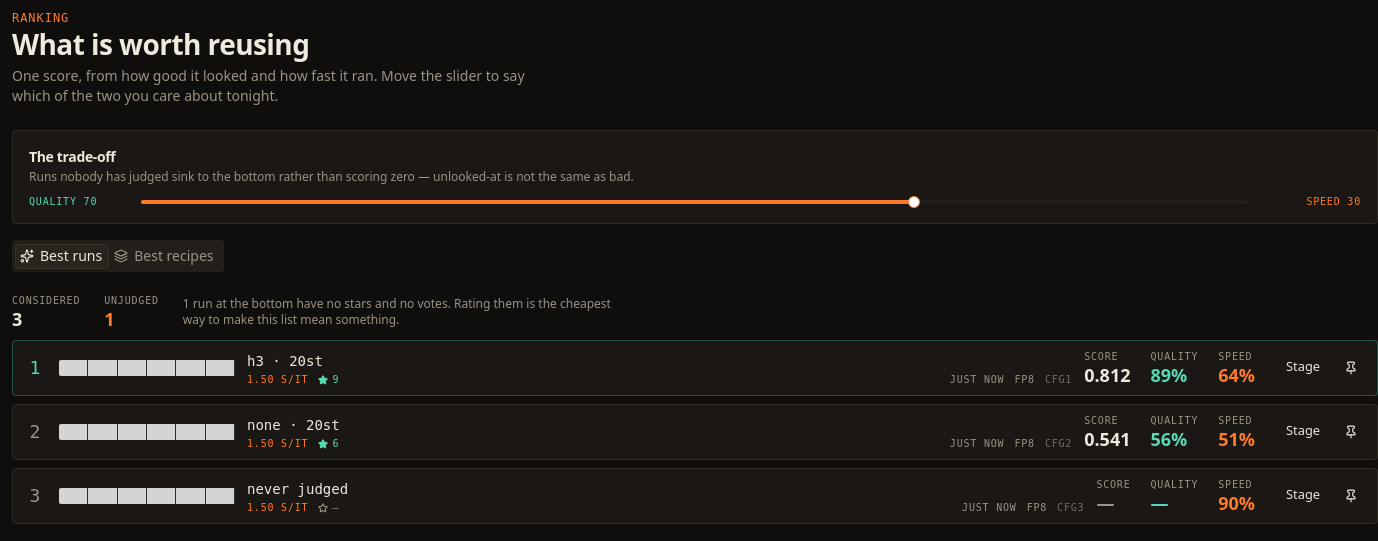
it: the leaderboard › groups replicates so one lucky run is not mistaken for a finding
The image size is (1378, 541).
Click the tab "Best recipes" at [165, 256], box [109,244,220,268]
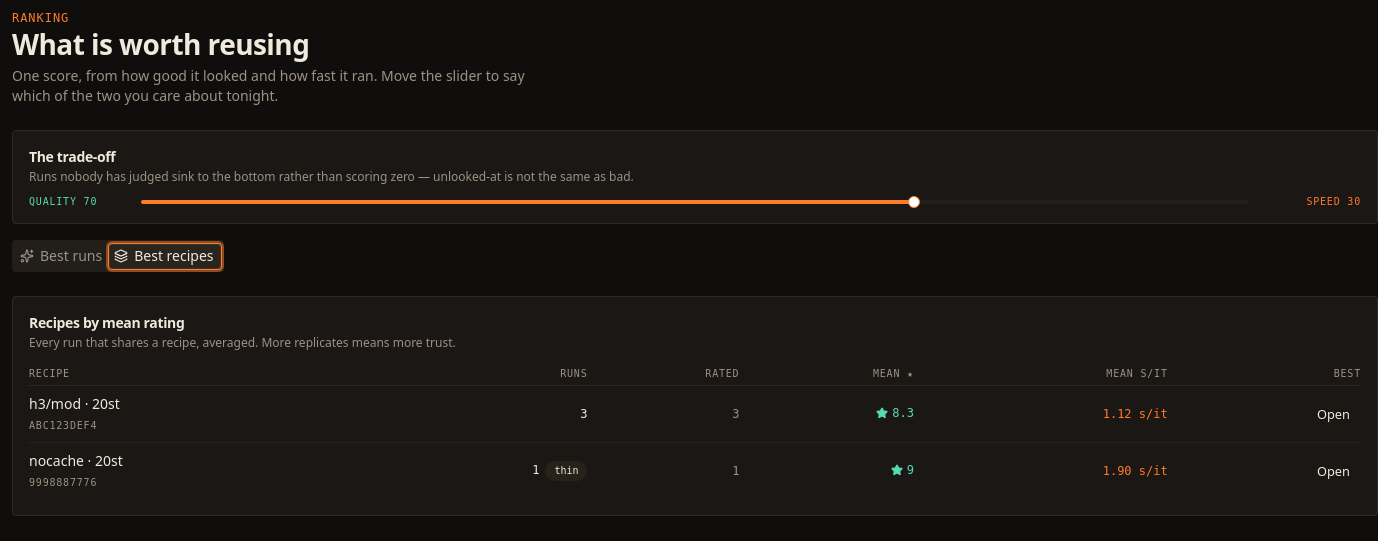
Expected: the icon "thin" is shown, [545,461,588,481]
Expected: the text "h3/mod · 20st" is shown, [29,394,120,413]
